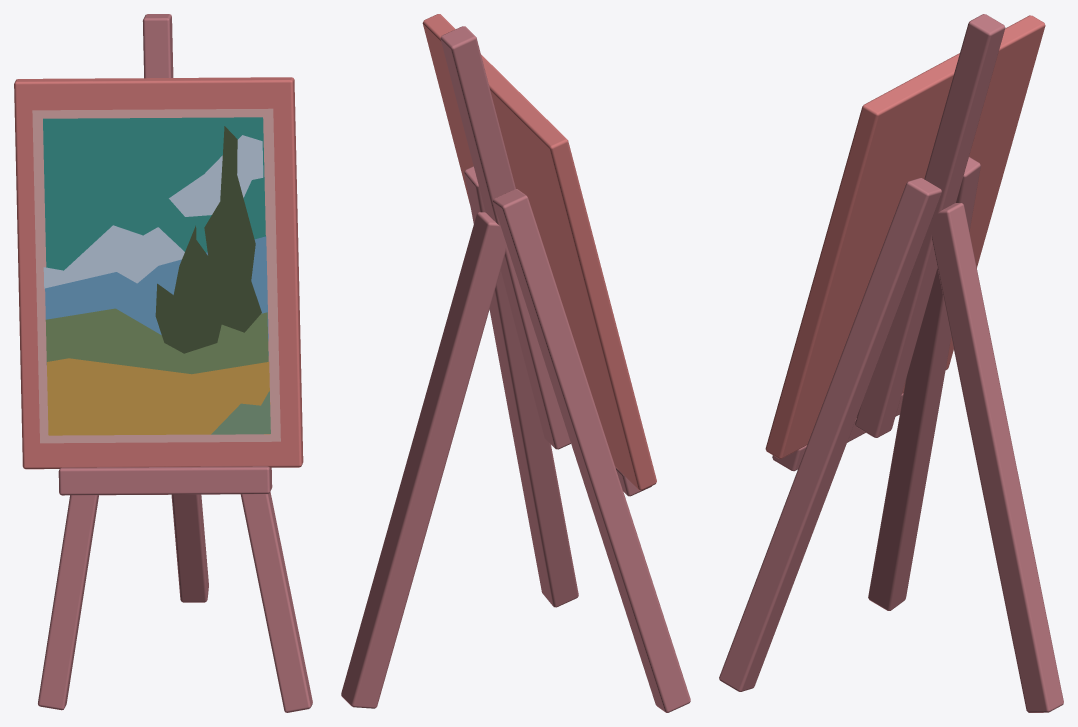
Rendered from artboard-landscape-transformed.glb.
3 views of the same model, side by side, from view 1: azimuth 30°, elevation 25°; view 2: azimuth 150°, elevation 25°; view 3: azimuth 270°, elevation 25° (orthographic). The views are drawn at different scales.
Visible parts, largest first — view 1: Cube 5.002, Rectangle.009, Shape.003, Shape 6, Rectangle 2.005, Shape 2.003, Cube 2.005, Cube.010, Cube 4.007, Shape 3.003, Shape 5.001, Cube 6 (+3 smaller); view 2: Cube 5.002, Cube 6, Cube.010, Cube 2.005, Cube 3.005; view 3: Cube 5.002, Cube 2.005, Cube 6, Cube 3.005, Cube.010, Cube 4.007.
Part boxes in pixels (x1=…): Cube 5.002: x1=14, y1=77, x2=303, y2=469; Rectangle.009: x1=43, y1=117, x2=268, y2=355; Shape.003: x1=47, y1=358, x2=270, y2=435; Shape 6: x1=155, y1=126, x2=261, y2=353; Rectangle 2.005: x1=32, y1=108, x2=280, y2=443; Shape 2.003: x1=45, y1=308, x2=268, y2=374; Cube 2.005: x1=240, y1=492, x2=312, y2=712; Cube.010: x1=38, y1=495, x2=98, y2=710; Cube 4.007: x1=58, y1=466, x2=272, y2=495; Shape 3.003: x1=45, y1=236, x2=268, y2=338; Shape 5.001: x1=43, y1=225, x2=184, y2=288; Cube 6: x1=171, y1=494, x2=208, y2=602; Cube 5.002: x1=422, y1=14, x2=656, y2=490; Cube 6: x1=341, y1=212, x2=506, y2=708; Cube.010: x1=493, y1=189, x2=690, y2=712; Cube 2.005: x1=464, y1=166, x2=578, y2=607; Cube 3.005: x1=440, y1=26, x2=570, y2=449; Cube 5.002: x1=765, y1=15, x2=1045, y2=458; Cube 2.005: x1=719, y1=178, x2=941, y2=691; Cube 6: x1=930, y1=203, x2=1063, y2=712; Cube 3.005: x1=855, y1=14, x2=1005, y2=437; Cube.010: x1=868, y1=157, x2=980, y2=610; Cube 4.007: x1=772, y1=393, x2=903, y2=471.
Size of the model in its own units: 0.8597 by 2.04 by 0.9598.
